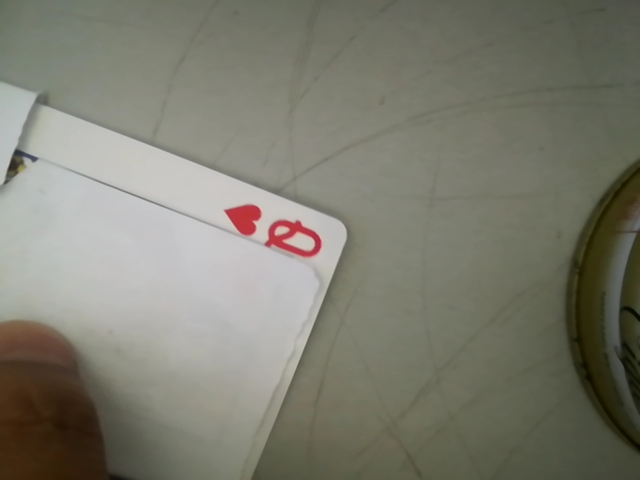hx q: (223, 209, 336, 265)
